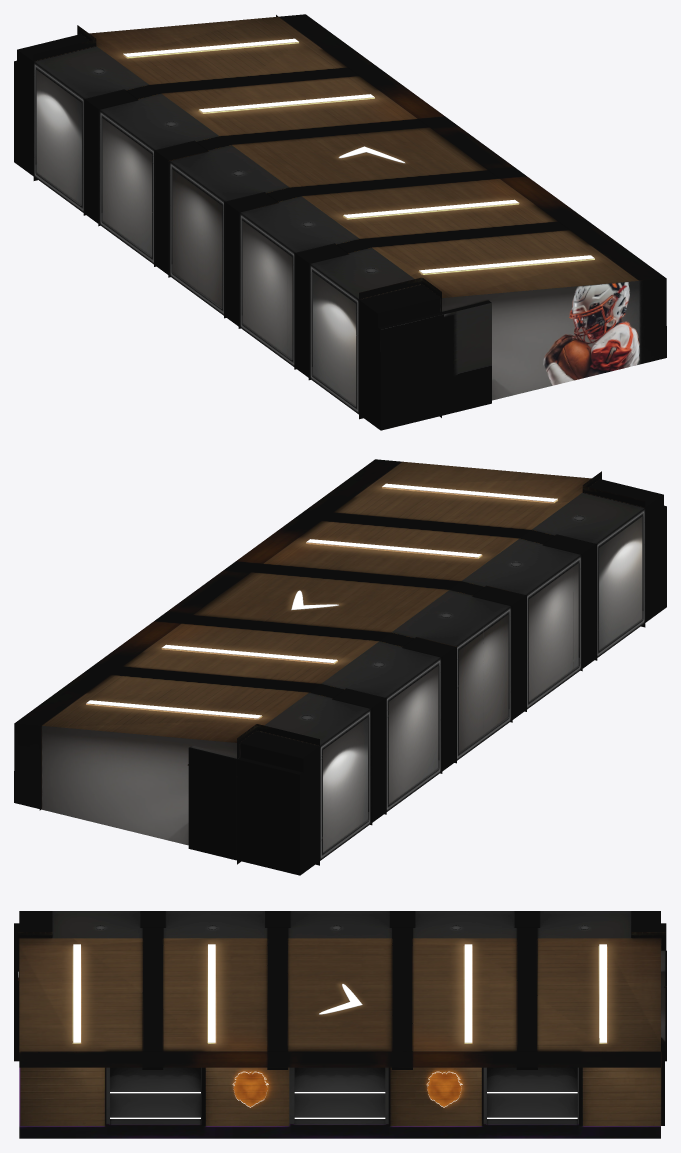
File: varsity vault.glb
The picture shows the model from 3 angles, top to bottom: view 1: azimuth 30°, elevation 25°; view 2: azimuth 150°, elevation 25°; view 3: azimuth 270°, elevation 25°; orthographic projection. The views are drawn at different scales.
Parts seen in each view (by area): view 1: wall, wood1, polySurface32, piler, s_op_2; view 2: wall, wood1, piler, s_op_2; view 3: wood1, wall, s_op_1, floor1, s_op_2, pCube3, piler.
Boxes of the visible parts, bbox=[...] form: wall: bbox=[14, 34, 666, 430]; wood1: bbox=[89, 14, 665, 297]; polySurface32: bbox=[444, 303, 491, 415]; piler: bbox=[83, 89, 348, 380]; s_op_2: bbox=[33, 25, 482, 419]; wall: bbox=[14, 479, 666, 875]; wood1: bbox=[15, 459, 591, 810]; piler: bbox=[332, 534, 597, 825]; s_op_2: bbox=[187, 471, 645, 865]; wood1: bbox=[19, 938, 664, 1125]; wall: bbox=[14, 911, 666, 1061]; s_op_1: bbox=[106, 1067, 578, 1124]; floor1: bbox=[19, 1067, 660, 1138]; s_op_2: bbox=[17, 931, 666, 1061]; pCube3: bbox=[319, 984, 362, 1014]; piler: bbox=[140, 927, 539, 1069].
Size of the model in its own units: 1.77 by 0.7359 by 3.87.
15 materials, 8 textured.
